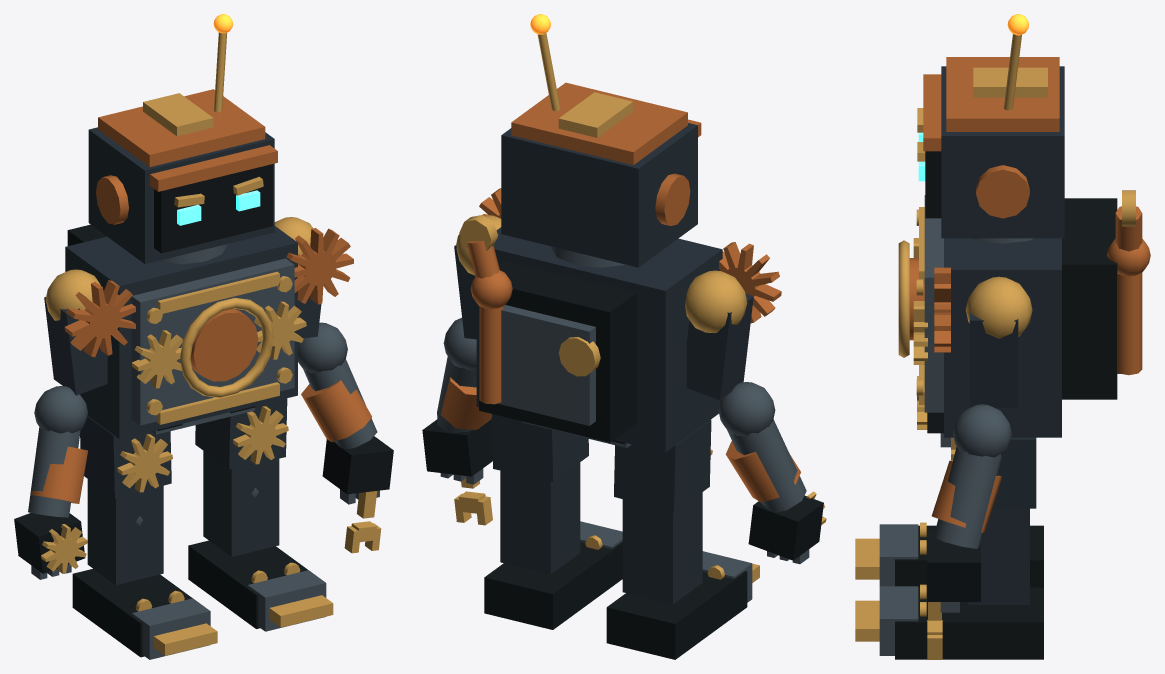
Rendered from asset.glb.
3 renders of one model, left to right at view 1: azimuth 30°, elevation 25°; view 2: azimuth 150°, elevation 25°; view 3: azimuth 270°, elevation 25°, orthographic. The views are drawn at different scales.
Visible parts, largest first — view 1: BodyAssembly, HeadAssembly, LeftLegAssembly, RightLegAssembly, LeftArmAssembly, RightArmAssembly, ServiceWrench; view 2: BodyAssembly, HeadAssembly, LeftLegAssembly, RightLegAssembly, LeftArmAssembly, RightArmAssembly, ServiceWrench; view 3: BodyAssembly, HeadAssembly, RightArmAssembly, RightLegAssembly, LeftLegAssembly, ServiceWrench, LeftArmAssembly.
Boxes of the visible parts, x1,y1,x2,y2 form: BodyAssembly: (65,224,306,438); HeadAssembly: (88,14,277,264); LeftLegAssembly: (72,416,217,659); RightLegAssembly: (188,398,333,631); LeftArmAssembly: (14,269,135,579); RightArmAssembly: (274,217,393,504); ServiceWrench: (344,491,381,553); BodyAssembly: (459,215,722,452); HeadAssembly: (501,14,701,267); LeftLegAssembly: (606,420,759,659); RightLegAssembly: (484,414,622,629); LeftArmAssembly: (685,242,826,564); RightArmAssembly: (422,188,501,484); ServiceWrench: (454,478,492,525); BodyAssembly: (898,190,1150,437); HeadAssembly: (917,14,1064,243); RightArmAssembly: (927,267,1032,612); RightLegAssembly: (855,437,1043,659); LeftLegAssembly: (855,522,1043,587); ServiceWrench: (927,602,942,659); LeftArmAssembly: (917,376,950,447).
Size of the model in its own units: 1.75 by 2.67 by 1.15.
